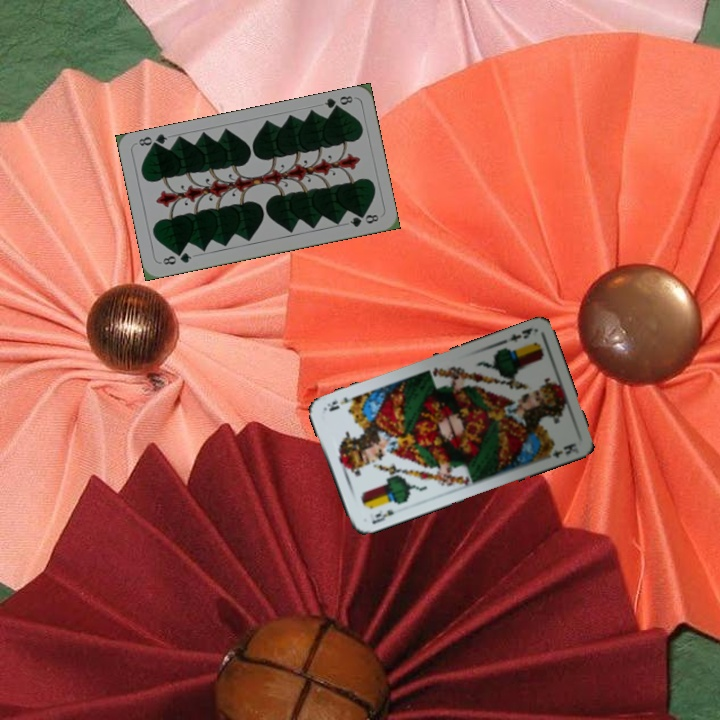EK: (498, 324, 535, 347), (368, 505, 396, 527)
G8: (320, 91, 355, 114), (157, 248, 194, 267)
